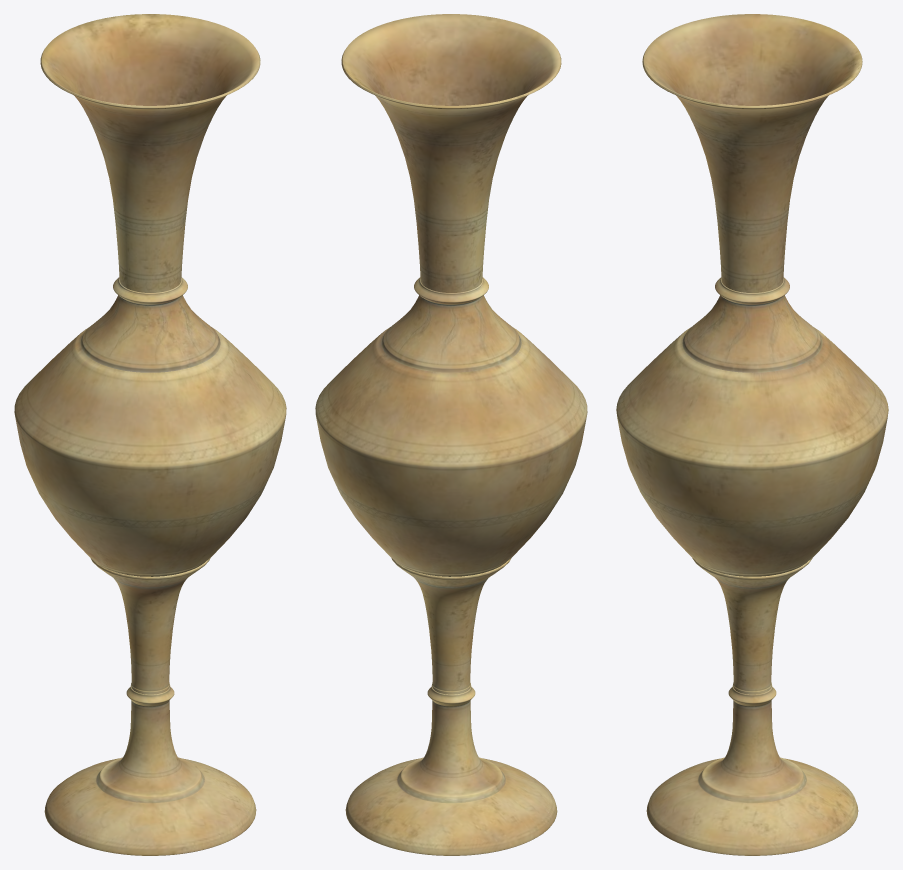
File: brass_vase_01.glb
The picture shows the model from 3 angles, left to right: view 1: azimuth 30°, elevation 25°; view 2: azimuth 150°, elevation 25°; view 3: azimuth 270°, elevation 25°; orthographic projection.
Parts seen in each view (by area): view 1: brass_vase_01; view 2: brass_vase_01; view 3: brass_vase_01.
Part boxes in pixels (bbox=[...]): brass_vase_01: bbox=[14, 14, 286, 855]; brass_vase_01: bbox=[315, 14, 587, 855]; brass_vase_01: bbox=[616, 14, 888, 855].
Size of the model in its own units: 0.2273 by 0.6925 by 0.2273.
Materials: 1 (1 with a texture image).
